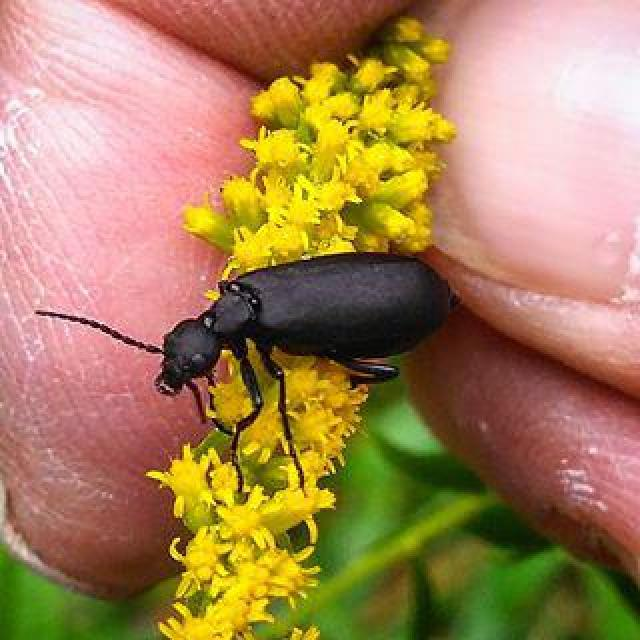BlisterBeetle-Adult-: (33, 249, 453, 437)
